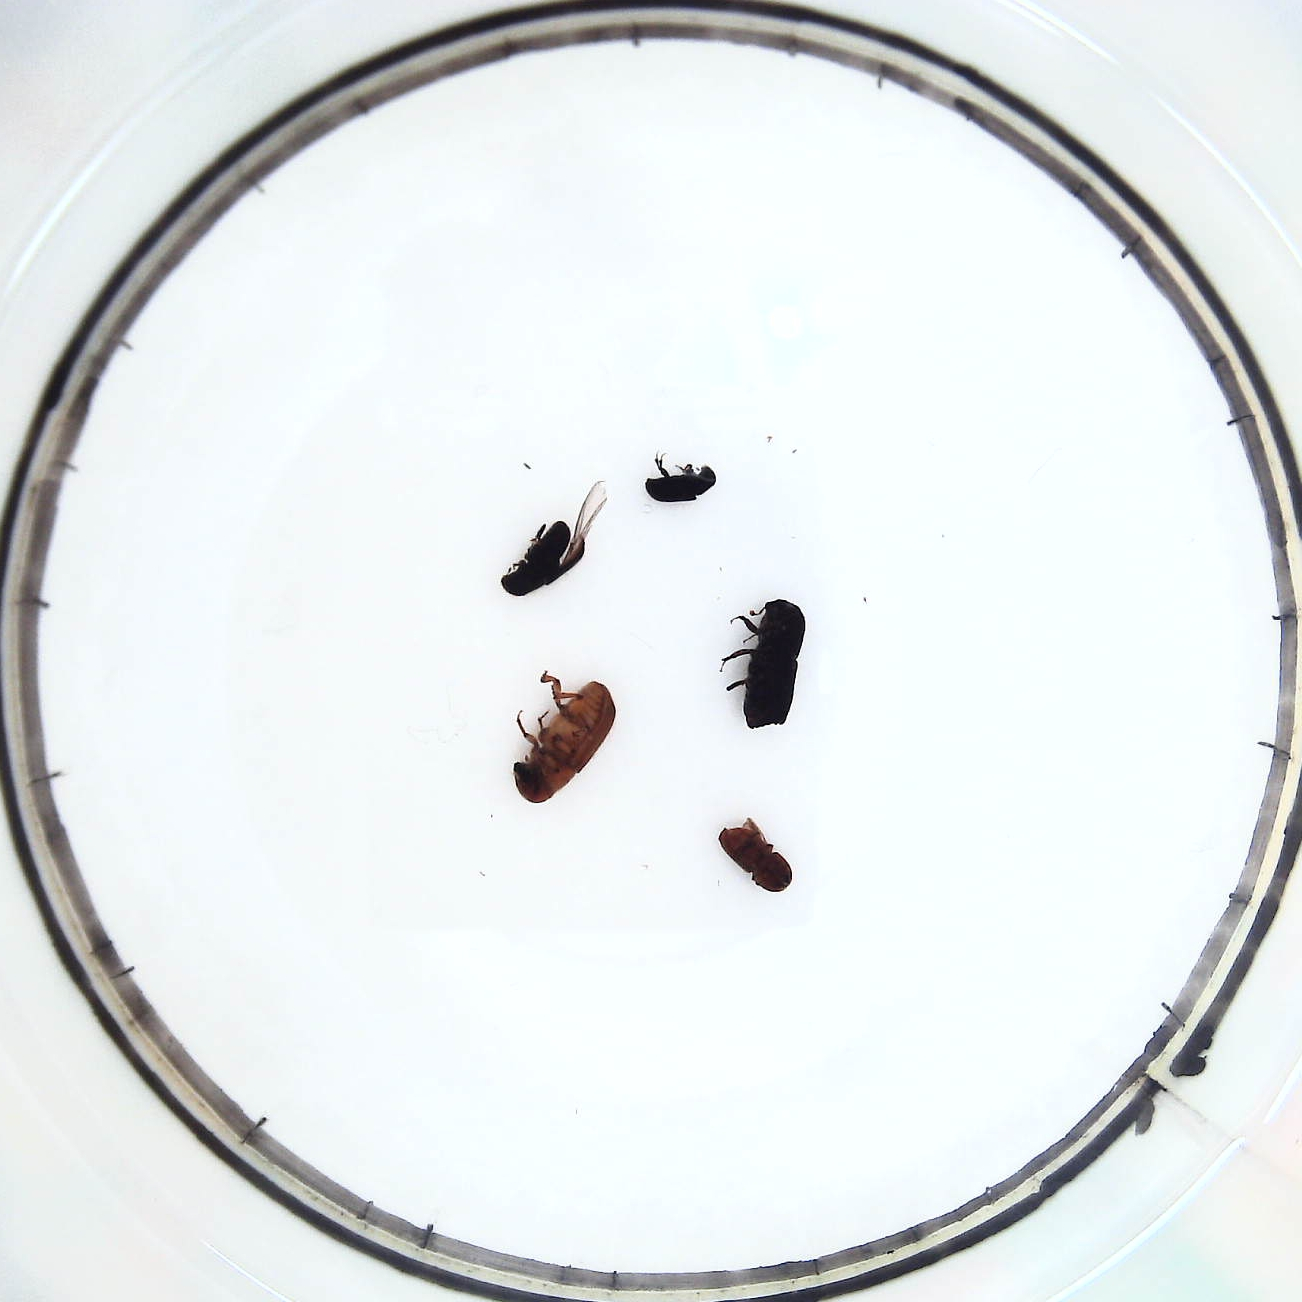Boerner: (718, 595, 811, 737)
Leconte: (506, 668, 620, 807)
armandi: (498, 480, 604, 600)
coleoptera: (641, 455, 725, 510)
linnaeus: (711, 812, 798, 900)
